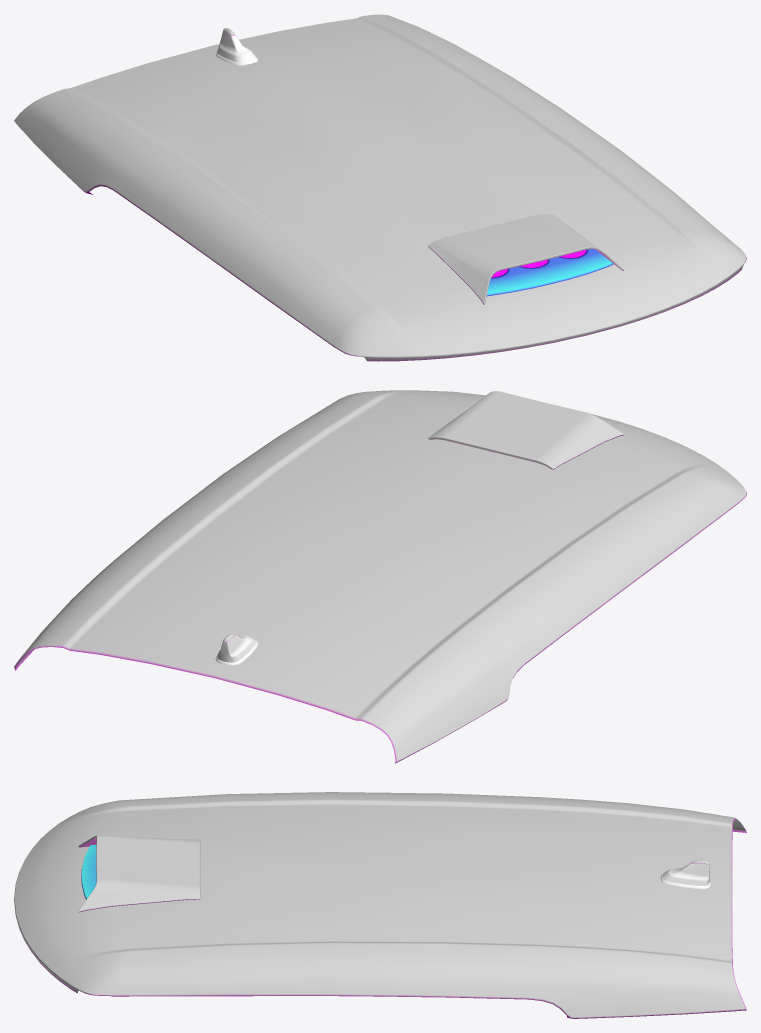
File: Car_Mini_CountrymanJCW_2017_Roof_SetE.fbx
The picture shows the model from 3 angles, top to bottom: view 1: azimuth 30°, elevation 25°; view 2: azimuth 150°, elevation 25°; view 3: azimuth 270°, elevation 25°; orthographic projection. The views are drawn at different scales.
Visible parts, largest first — view 1: Roof 6; view 2: Roof 6; view 3: Roof 6.
Part boxes in pixels (x1,y1,x2,y2): Roof 6: [14, 14, 746, 361]; Roof 6: [14, 390, 746, 763]; Roof 6: [14, 792, 746, 1018].
Bounding box in the file's own units: 1.28 × 0.1941 × 2.01.
